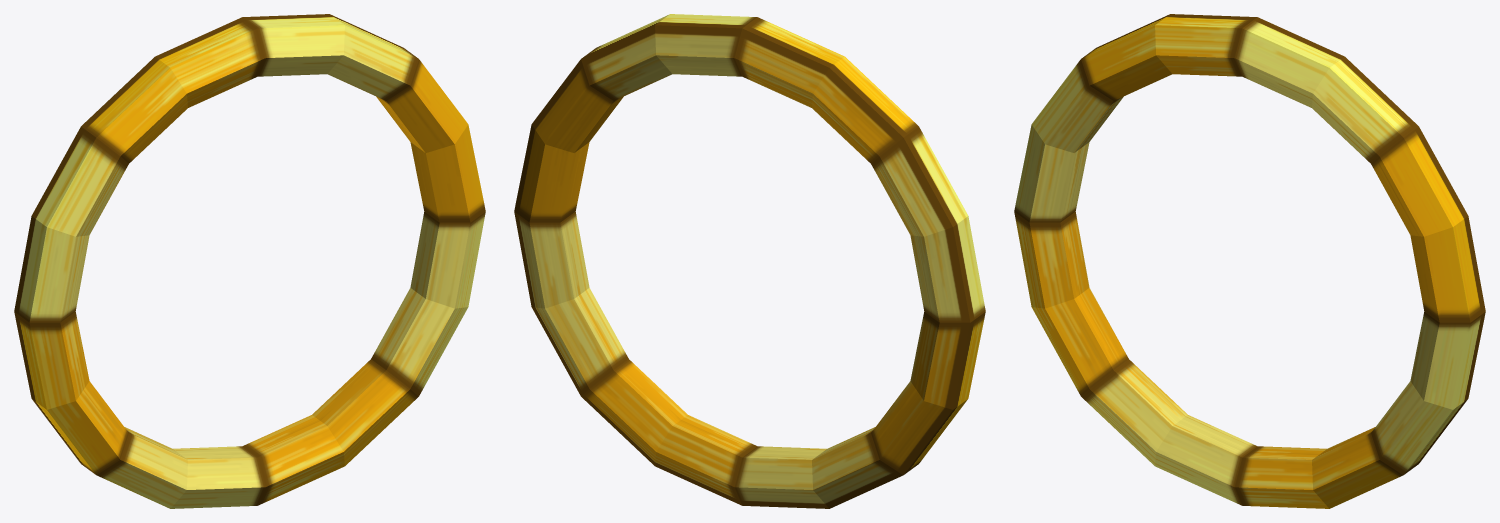
File: AroOro.fbx
3 views of the same model, side by side, from view 1: azimuth 30°, elevation 25°; view 2: azimuth 150°, elevation 25°; view 3: azimuth 330°, elevation 25° (orthographic).
Visible parts, largest first — view 1: AroOro; view 2: AroOro; view 3: AroOro.
Part boxes in pixels (x1,y1,x2,y2): AroOro: (14, 14, 485, 508); AroOro: (514, 14, 985, 508); AroOro: (1014, 14, 1485, 508).
Bounding box in the file's own units: 11.13 × 11.13 × 1.3.
